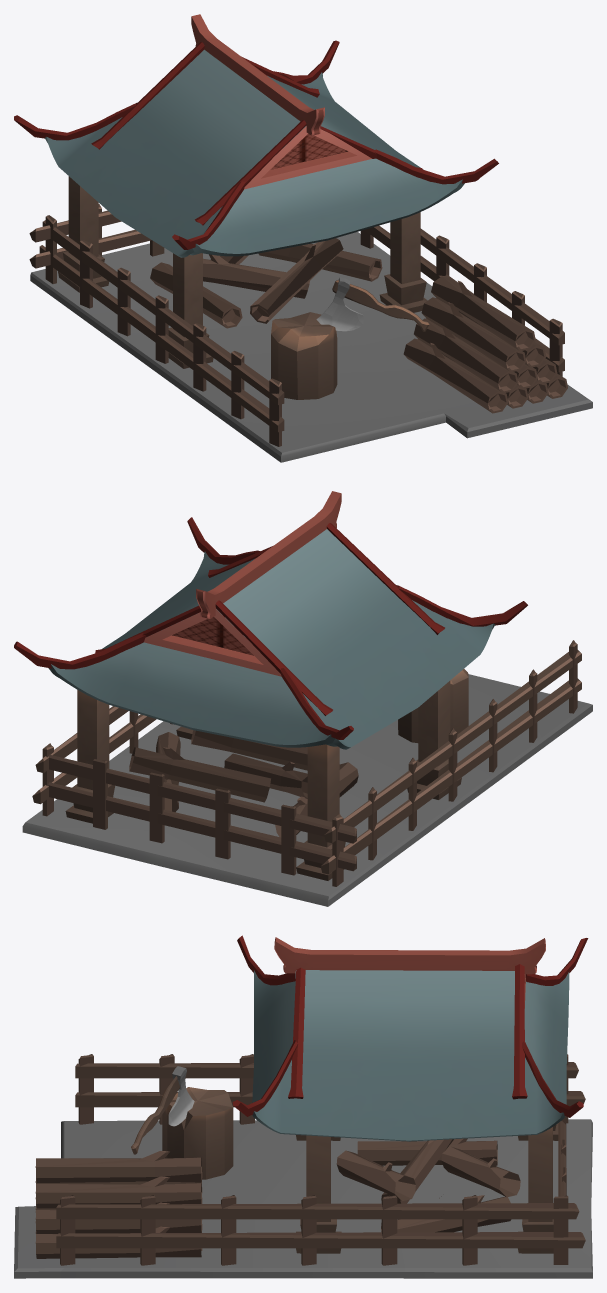
Rendered from Sawmill_1lvl.fbx.
The picture shows the model from 3 angles, top to bottom: view 1: azimuth 30°, elevation 25°; view 2: azimuth 150°, elevation 25°; view 3: azimuth 270°, elevation 25°; orthographic projection. The views are drawn at different scales.
Visible parts, largest first — view 1: Sawmill_1lvl; view 2: Sawmill_1lvl; view 3: Sawmill_1lvl.
Boxes of the visible parts, bbox=[...] form: Sawmill_1lvl: bbox=[14, 14, 592, 462]; Sawmill_1lvl: bbox=[14, 491, 592, 906]; Sawmill_1lvl: bbox=[14, 935, 592, 1278].
Size of the model in its own units: 4.47 by 3.26 by 6.47.
Materials: 1 (1 with a texture image).
